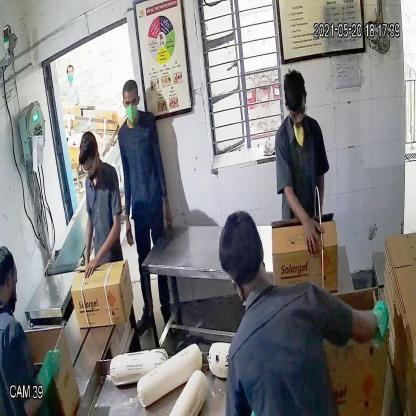goggles: (77, 158, 100, 178), (284, 102, 307, 120)
no_goggles: (121, 95, 140, 110)
